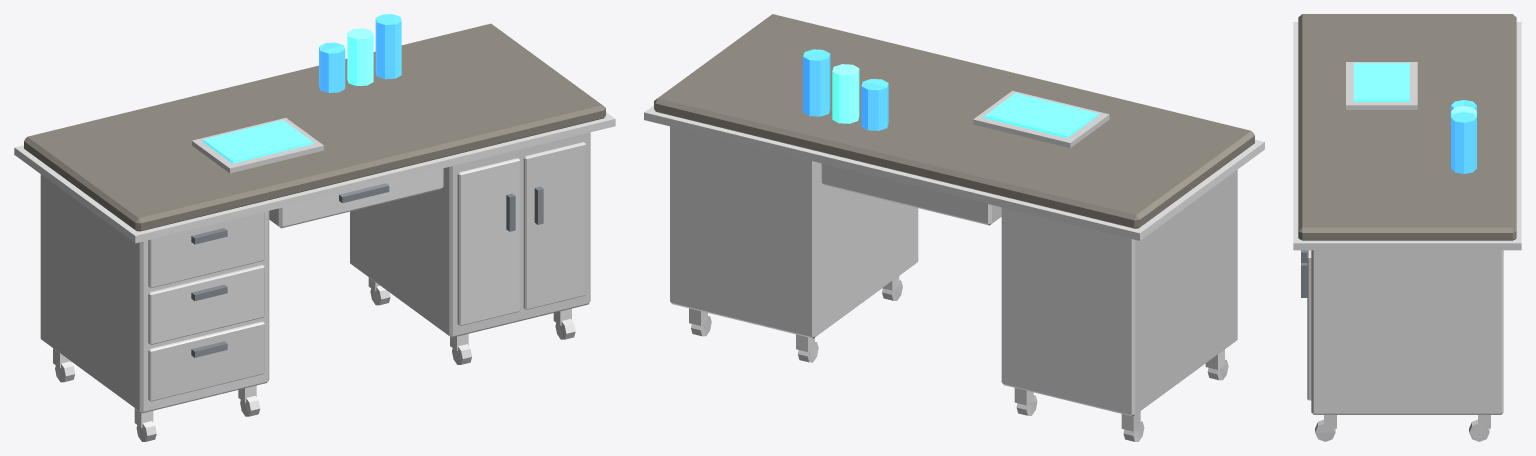
The model's file is Lab_Table.fbx.
3 renders of one model, left to right at view 1: azimuth 30°, elevation 25°; view 2: azimuth 150°, elevation 25°; view 3: azimuth 270°, elevation 25°, orthographic. The views are drawn at different scales.
Parts seen in each view (by area): view 1: Lab_Table; view 2: Lab_Table; view 3: Lab_Table.
Boxes of the visible parts, x1=… form: Lab_Table: x1=14, y1=14, x2=615, y2=441; Lab_Table: x1=644, y1=14, x2=1264, y2=441; Lab_Table: x1=1293, y1=14, x2=1521, y2=441.
Size of the model in its own units: 2.04 by 1.18 by 0.89.
